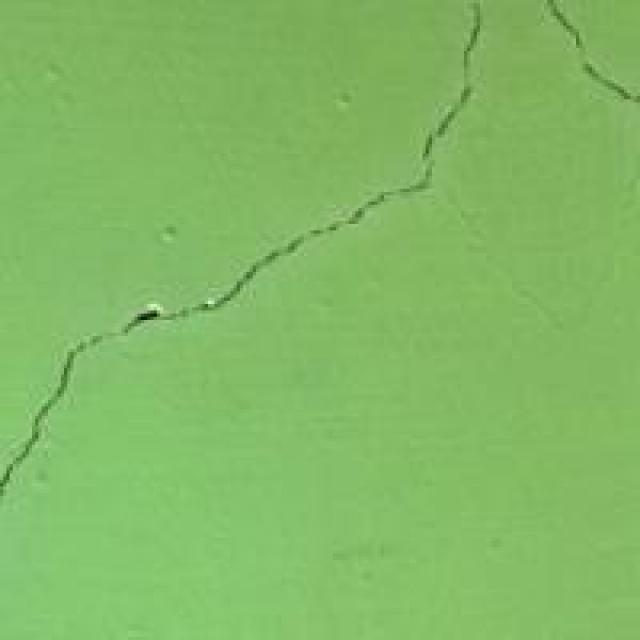Crack: (3, 35, 489, 515)
